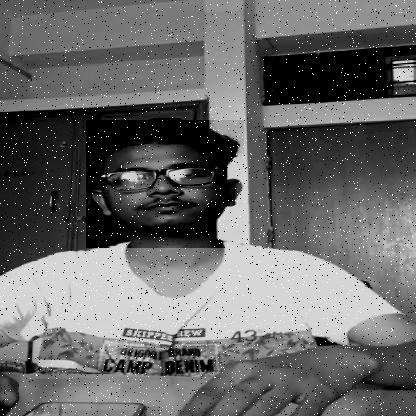Normal: (86, 120, 244, 248)
